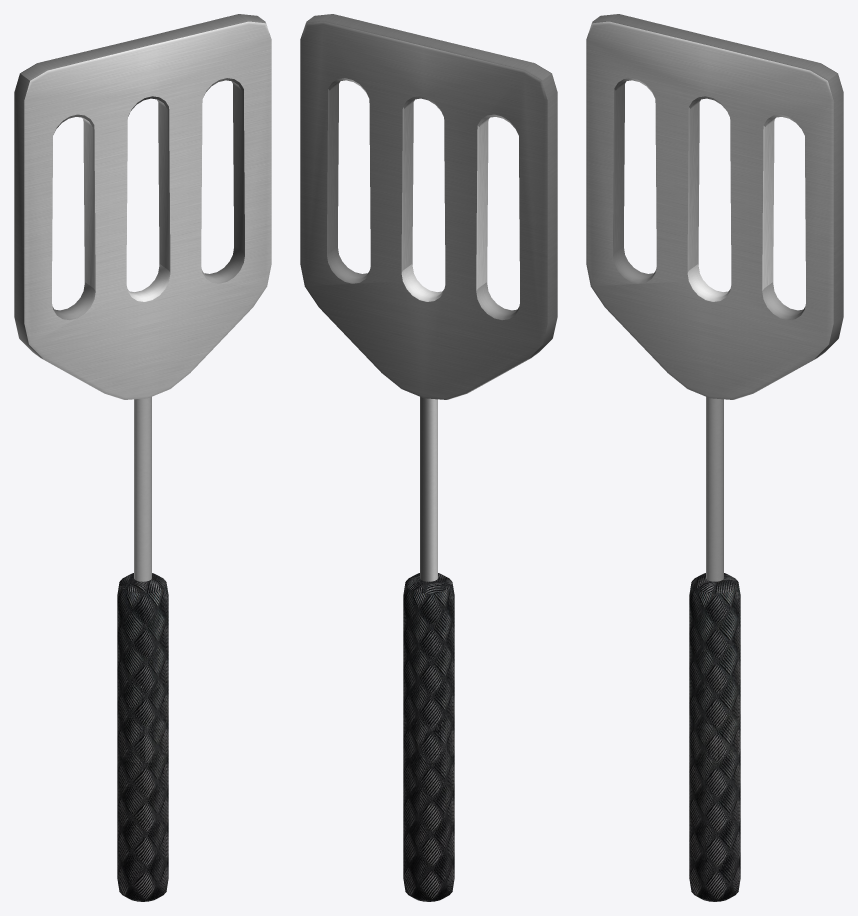
The model's file is Spatula.FBX.
The picture shows the model from 3 angles, left to right: view 1: azimuth 30°, elevation 25°; view 2: azimuth 150°, elevation 25°; view 3: azimuth 330°, elevation 25°; orthographic projection.
Visible parts, largest first — view 1: Box001; view 2: Box001; view 3: Box001.
Part boxes in pixels (x1,y1,x2,y2): Box001: (14, 14, 271, 901); Box001: (300, 14, 557, 901); Box001: (586, 14, 843, 901).
Size of the model in its own units: 233 by 766 by 41.79.
